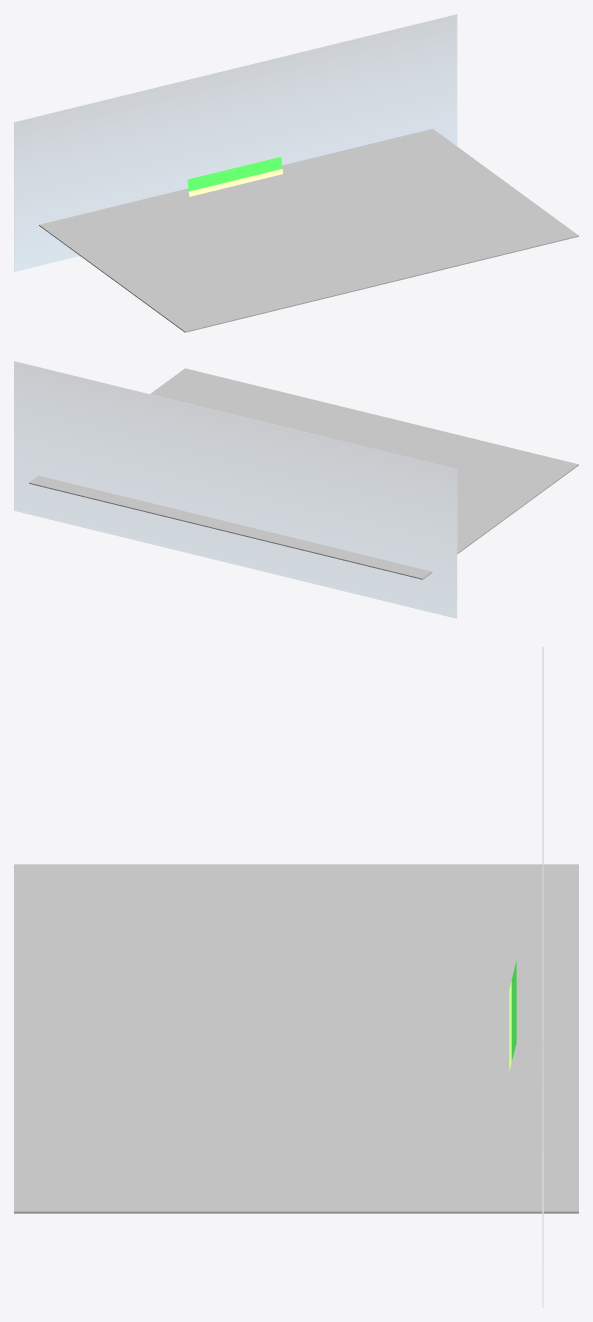
Rendered from f_aro.glb.
3 renders of one model, top to bottom at view 1: azimuth 30°, elevation 25°; view 2: azimuth 150°, elevation 25°; view 3: azimuth 270°, elevation 25°, orthographic. The views are drawn at different scales.
Parts seen in each view (by area): view 1: Ground contact / transparent shadow receiver.037, Sky gradient / editable material.037, Flag cloth / full-bleed source fields.009; view 2: Sky gradient / editable material.037, Ground contact / transparent shadow receiver.037; view 3: Ground contact / transparent shadow receiver.037, Sky gradient / editable material.037.
Boxes of the visible parts, x1,y1,x2,y2 form: Ground contact / transparent shadow receiver.037: [39, 128, 578, 332]; Sky gradient / editable material.037: [14, 14, 457, 271]; Flag cloth / full-bleed source fields.009: [187, 157, 282, 196]; Sky gradient / editable material.037: [14, 361, 457, 618]; Ground contact / transparent shadow receiver.037: [29, 368, 578, 579]; Ground contact / transparent shadow receiver.037: [14, 864, 578, 1213]; Sky gradient / editable material.037: [542, 647, 543, 1307].
Bounding box in the file's own units: 180 × 58 × 110.
